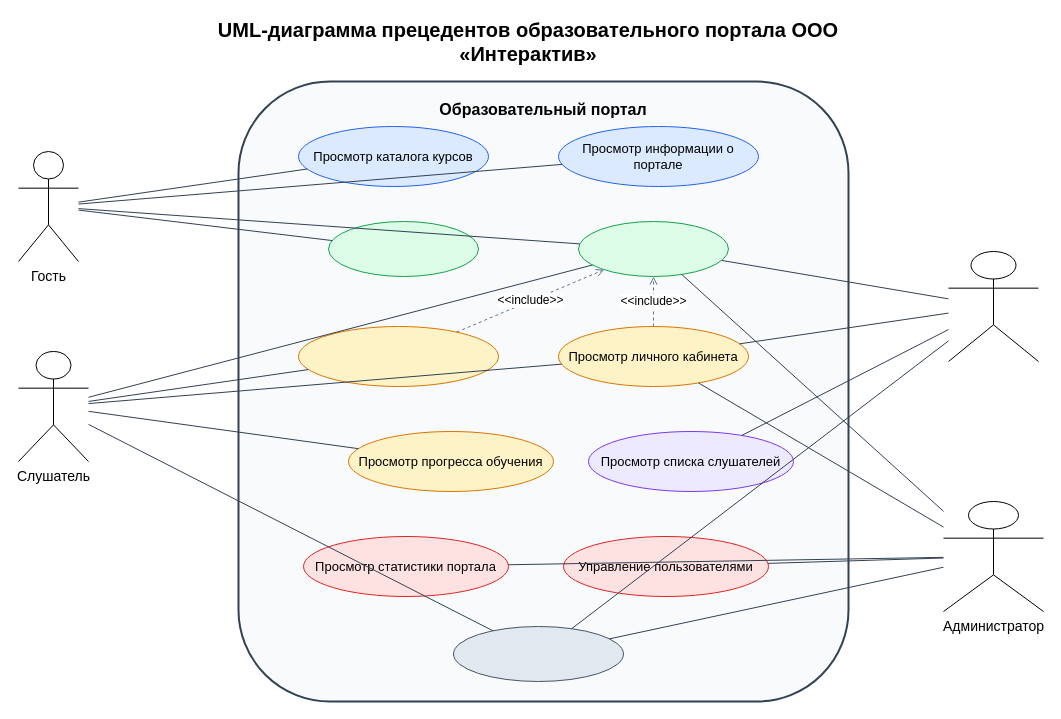
Some shapes in this 1061 by 719 pixel diagram are drawn without their labels. The shapes that lost their labels are listed below. From the top down, each one's centre as x and y in pixels, then its label:
At (403,248): "Регистрация".
At (653,248): "Авторизация".
At (993,306): "Преподаватель".
At (398,356): "Подача заявки на обучение".
At (538,654): "Выход из системы".
